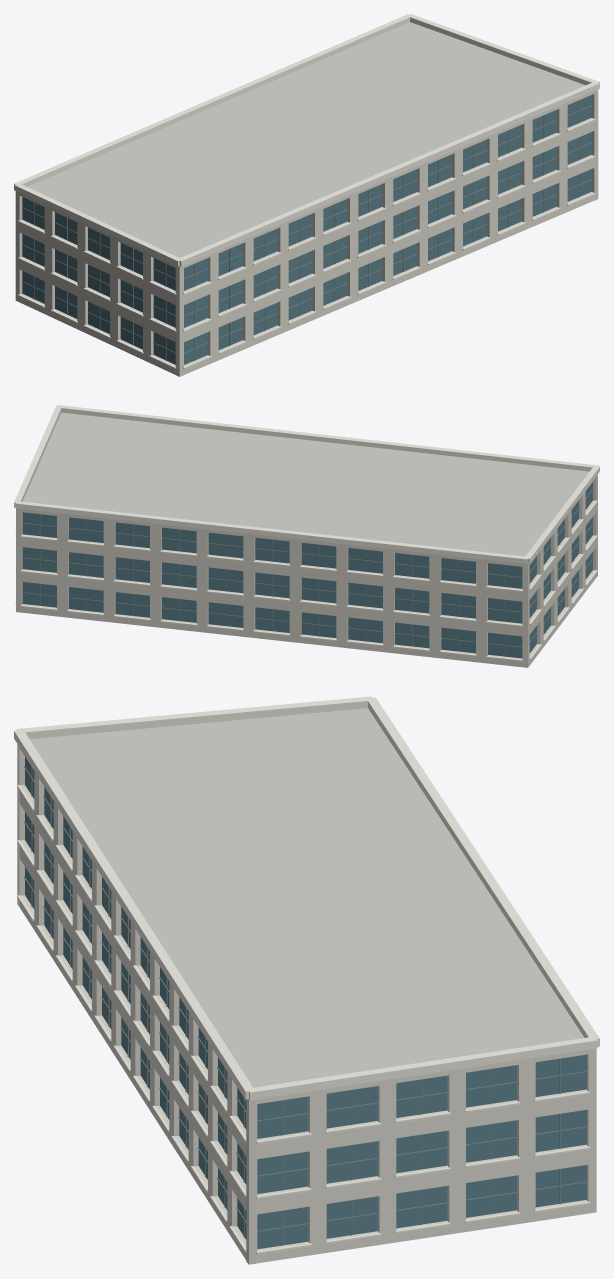
3 views of the same model, one above another, from view 1: azimuth 30°, elevation 25°; view 2: azimuth 150°, elevation 25°; view 3: azimuth 270°, elevation 25° (orthographic). The views are drawn at different scales.
Parts seen in each view (by area): view 1: roof, wall, glass, trim, metal; view 2: roof, wall, glass, trim, metal; view 3: roof, wall, glass, trim, metal.
Boxes of the visible parts, left/top/right/bottom form: roof: left=27, top=22, right=585, bottom=257; wall: left=15, top=89, right=598, bottom=376; glass: left=22, top=95, right=591, bottom=364; trim: left=14, top=14, right=599, bottom=368; metal: left=22, top=100, right=591, bottom=360; roof: left=23, top=412, right=589, bottom=556; wall: left=16, top=474, right=597, bottom=667; glass: left=22, top=482, right=592, bottom=658; trim: left=14, top=405, right=599, bottom=661; metal: left=22, top=488, right=593, bottom=656; roof: left=29, top=708, right=584, bottom=1087; wall: left=17, top=744, right=596, bottom=1264; glass: left=25, top=757, right=586, bottom=1249; trim: left=14, top=696, right=599, bottom=1254; metal: left=24, top=766, right=586, bottom=1245.
Bounding box in the file's own units: 47.77 × 9.74 × 29.85.
